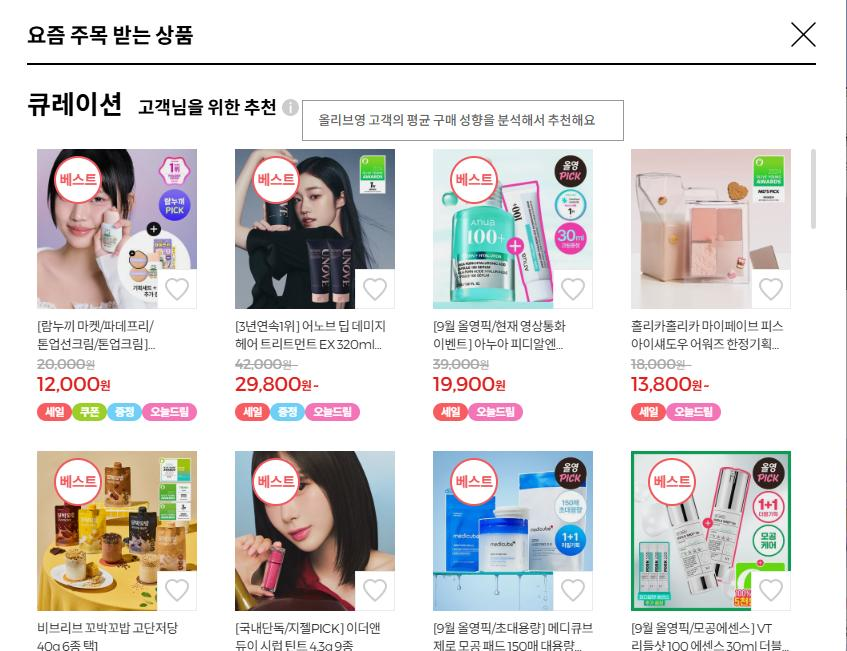button: (777, 6, 829, 62), (752, 267, 793, 312), (553, 268, 595, 311), (356, 266, 396, 309), (355, 570, 396, 611), (159, 266, 198, 309), (158, 571, 197, 613), (553, 570, 595, 609), (753, 570, 791, 612)
